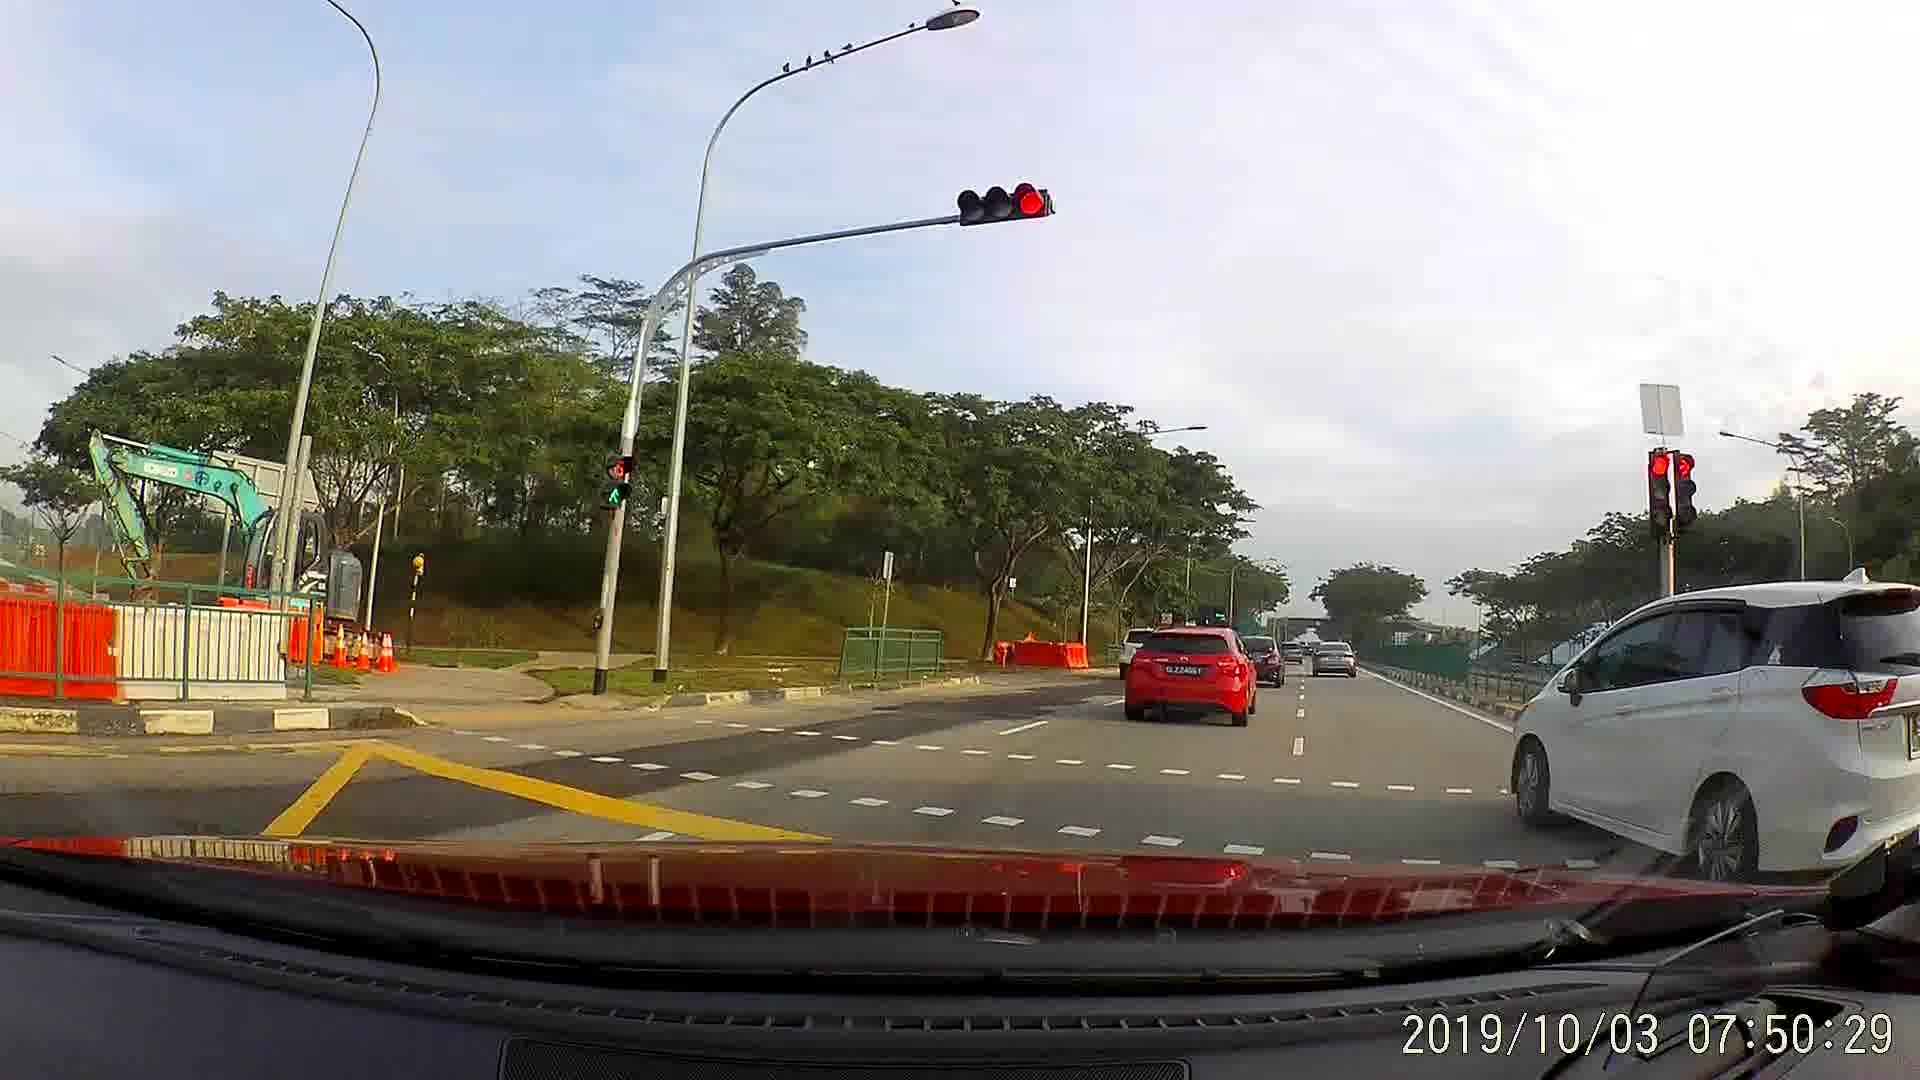car: (1499, 579, 1917, 870), (1124, 622, 1266, 735), (1232, 633, 1294, 694), (1305, 628, 1358, 682), (1280, 641, 1308, 669)
